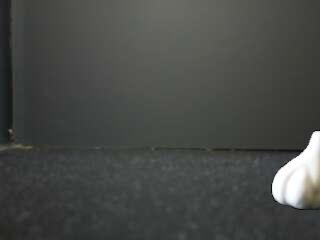Garlic: (270, 128, 320, 211)
